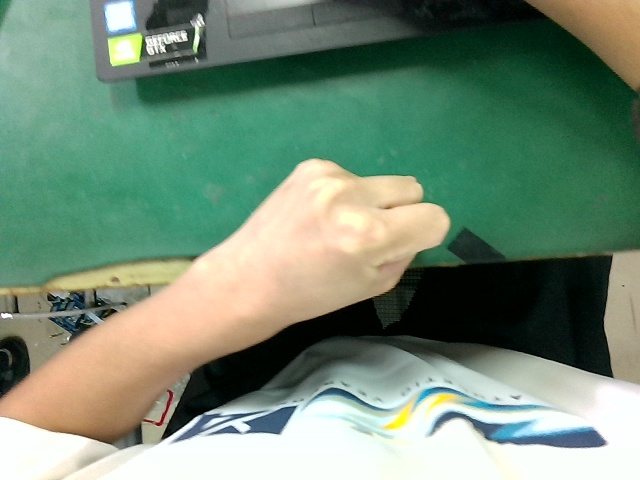stone: (201, 149, 461, 335)
